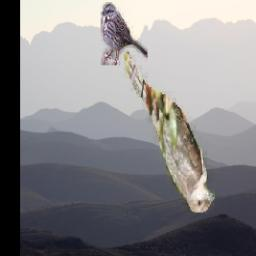Cuckoo: (123, 50, 216, 214)
Sparrow: (102, 3, 149, 66)
